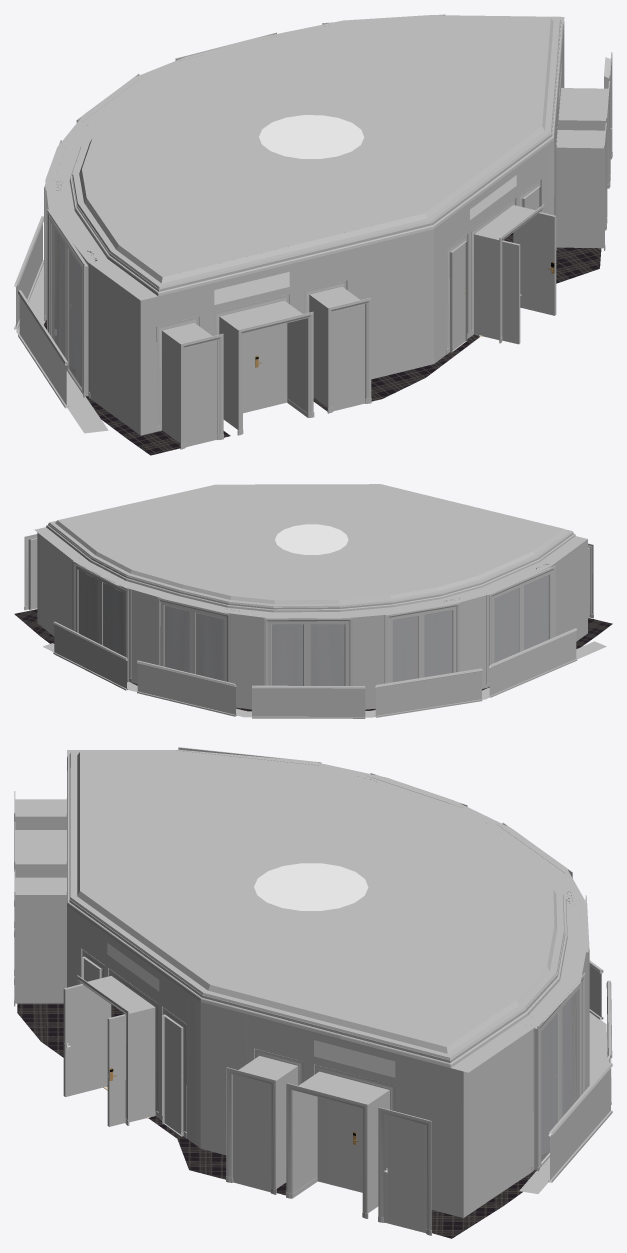
The model's file is SalonMessager.fbx.
3 renders of one model, top to bottom at view 1: azimuth 30°, elevation 25°; view 2: azimuth 150°, elevation 25°; view 3: azimuth 270°, elevation 25°, orthographic. The views are drawn at different scales.
Visible parts, largest first — view 1: polySurface988, polySurface993, polySurface994, polySurface5; view 2: polySurface988, polySurface5, polySurface993, polySurface994; view 3: polySurface988, polySurface993, polySurface994, polySurface5.
Boxes of the visible parts, x1,y1,x2,y2 form: polySurface988: (14, 15, 601, 455); polySurface993: (44, 14, 612, 449); polySurface994: (69, 18, 563, 296); polySurface5: (52, 224, 81, 387); polySurface988: (14, 484, 612, 718); polySurface5: (78, 570, 549, 685); polySurface993: (24, 534, 593, 687); polySurface994: (46, 520, 575, 612); polySurface988: (17, 750, 612, 1238); polySurface993: (14, 747, 589, 1235); polySurface994: (67, 752, 567, 1067); polySurface5: (541, 989, 579, 1161).
Size of the model in its own units: 1538 by 315 by 1069.
